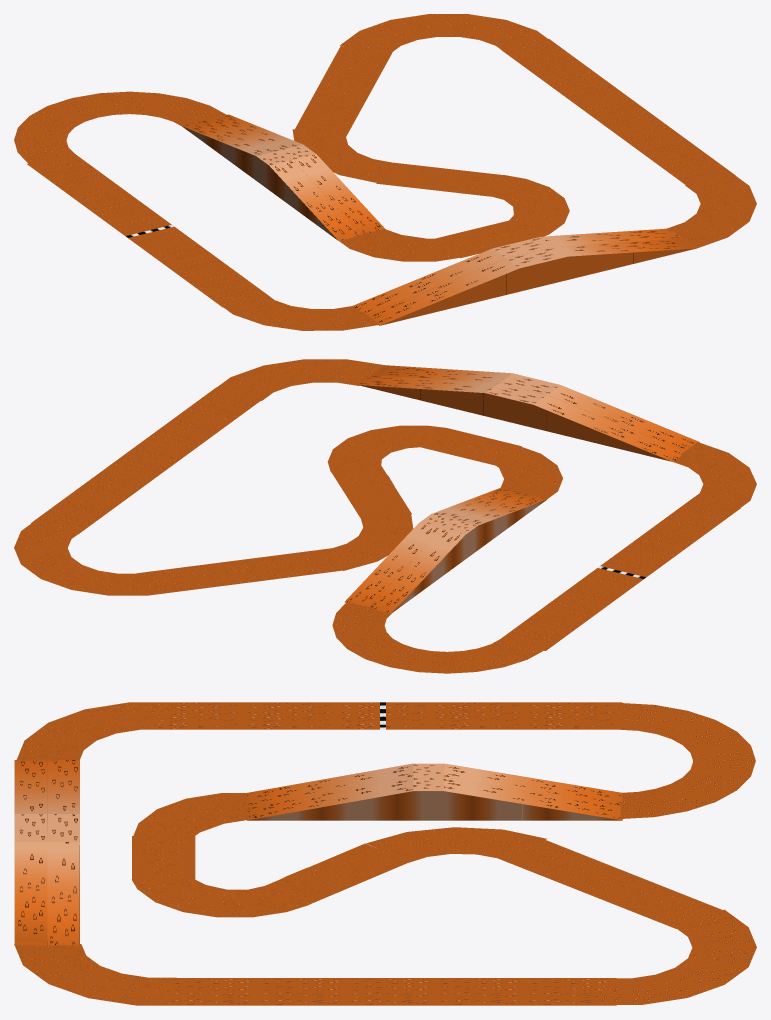
The picture shows the model from 3 angles, top to bottom: view 1: azimuth 30°, elevation 25°; view 2: azimuth 150°, elevation 25°; view 3: azimuth 270°, elevation 25°; orthographic projection. The views are drawn at different scales.
Visible parts, largest first — view 1: Box003, Box004, course003, course015, Tube002, Tube017, course016, Tube013, Tube016, Tube015, Tube019, Tube018 (+2 smaller); view 2: Box003, Box004, course003, course015, Tube002, Tube017, course016, Tube013, Tube016, Tube015, Tube019, Tube018 (+2 smaller); view 3: Box004, course003, Box003, course015, Tube002, Tube017, course016, Tube013, Tube016, Tube015, Tube019, Tube018 (+2 smaller).
Part boxes in pixels (x1,y1,x2,y2): Box003: (353,228,696,325); Box004: (182,114,385,240); course003: (27,152,269,307); course015: (502,39,735,186); Tube002: (14,91,226,164); Tube017: (340,14,556,52); course016: (295,46,392,137); Tube013: (441,175,569,243); Tube016: (667,175,756,248); Tube015: (213,295,379,330); Tube019: (339,229,496,261); Tube018: (292,129,389,182); Box003: (358,365,699,461); Box004: (344,488,546,613); course003: (499,497,740,650); course015: (31,387,263,534); Tube002: (332,602,545,673); Tube017: (14,516,148,595); course016: (136,548,342,595); Tube013: (327,425,476,488); Tube016: (217,359,384,400); Tube015: (673,442,756,514); Tube019: (464,438,562,498); Tube018: (329,514,413,570); Box004: (247,763,622,820); course003: (152,702,622,729); Box003: (14,760,79,945); course015: (170,978,616,1005); Tube002: (618,703,755,818); Tube017: (594,909,756,1004); course016: (495,840,722,928); Tube013: (131,858,328,917); Tube016: (14,944,176,1005); Tube015: (16,702,176,760); Tube019: (133,793,248,858); Tube018: (366,827,546,862).
Size of the model in its own units: 242 by 10.93 by 250.
Materials: 3 (3 with a texture image).
